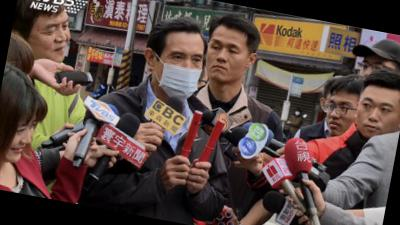with_mask: (155, 45, 207, 106)
without_mask: (202, 37, 252, 89), (352, 95, 400, 145), (33, 12, 75, 64), (3, 114, 38, 169), (322, 96, 358, 140)
